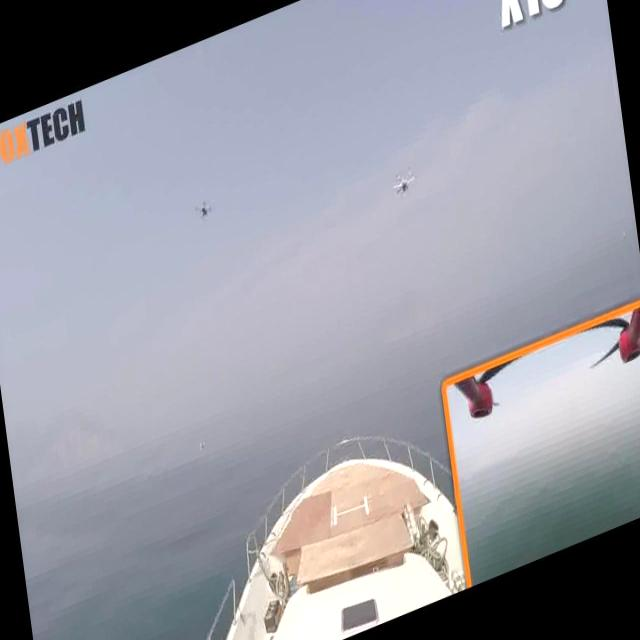drone: (386, 161, 428, 206), (192, 186, 214, 227)
